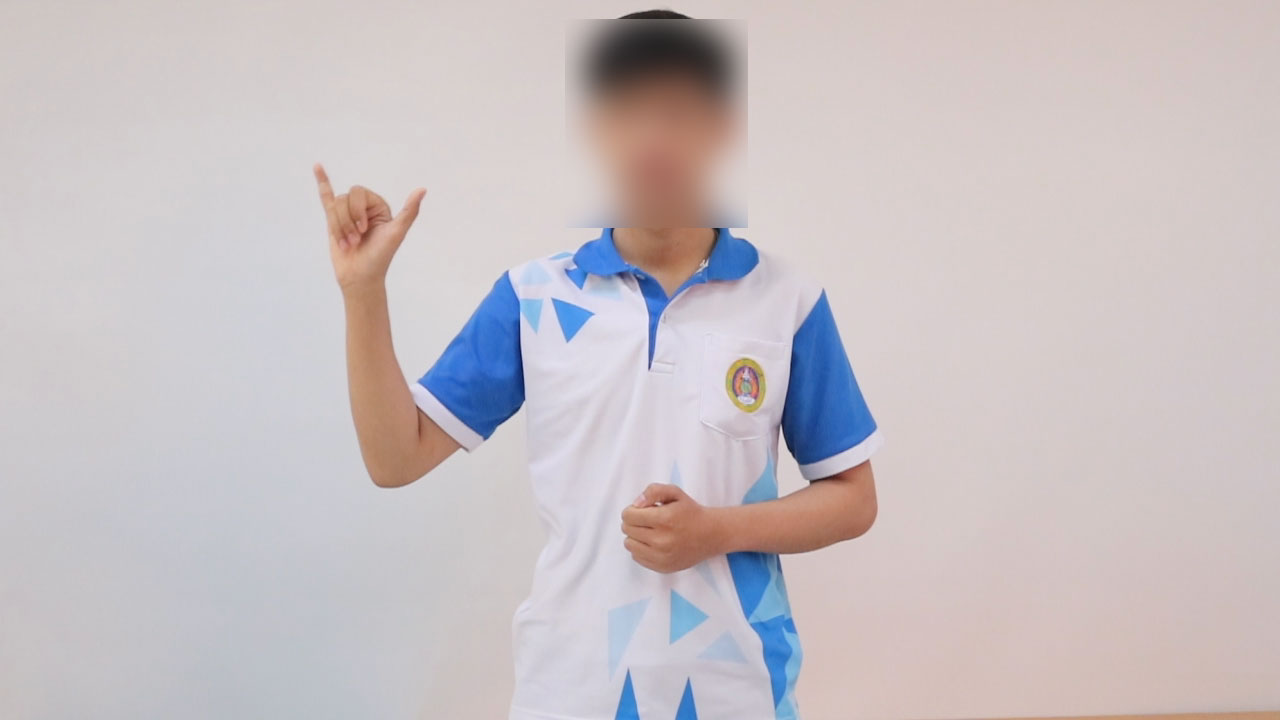yor: (300, 158, 433, 288)
